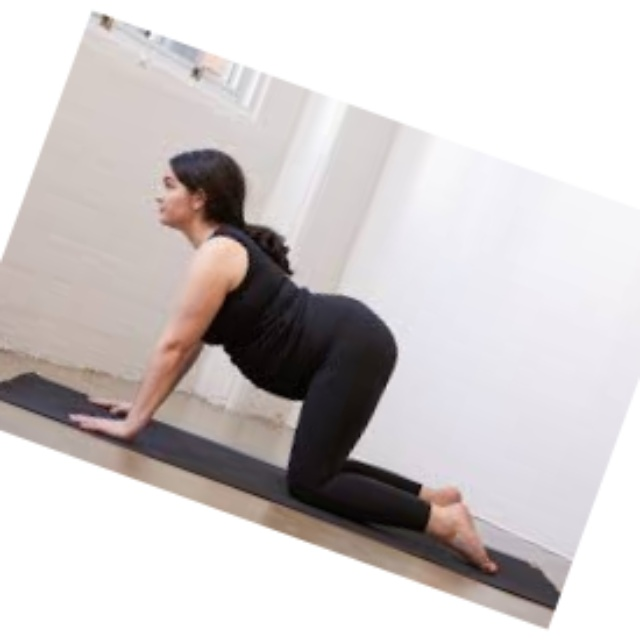Cow_Pose: (69, 147, 503, 576)
